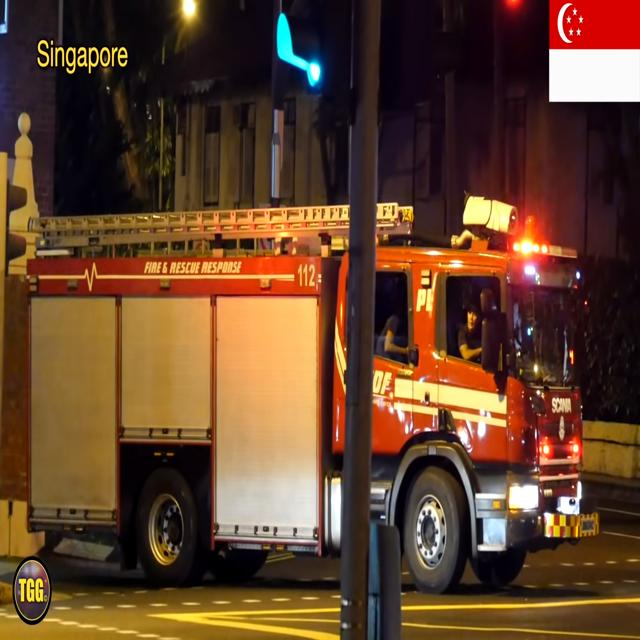emergency-vehicles: (18, 197, 613, 598)
